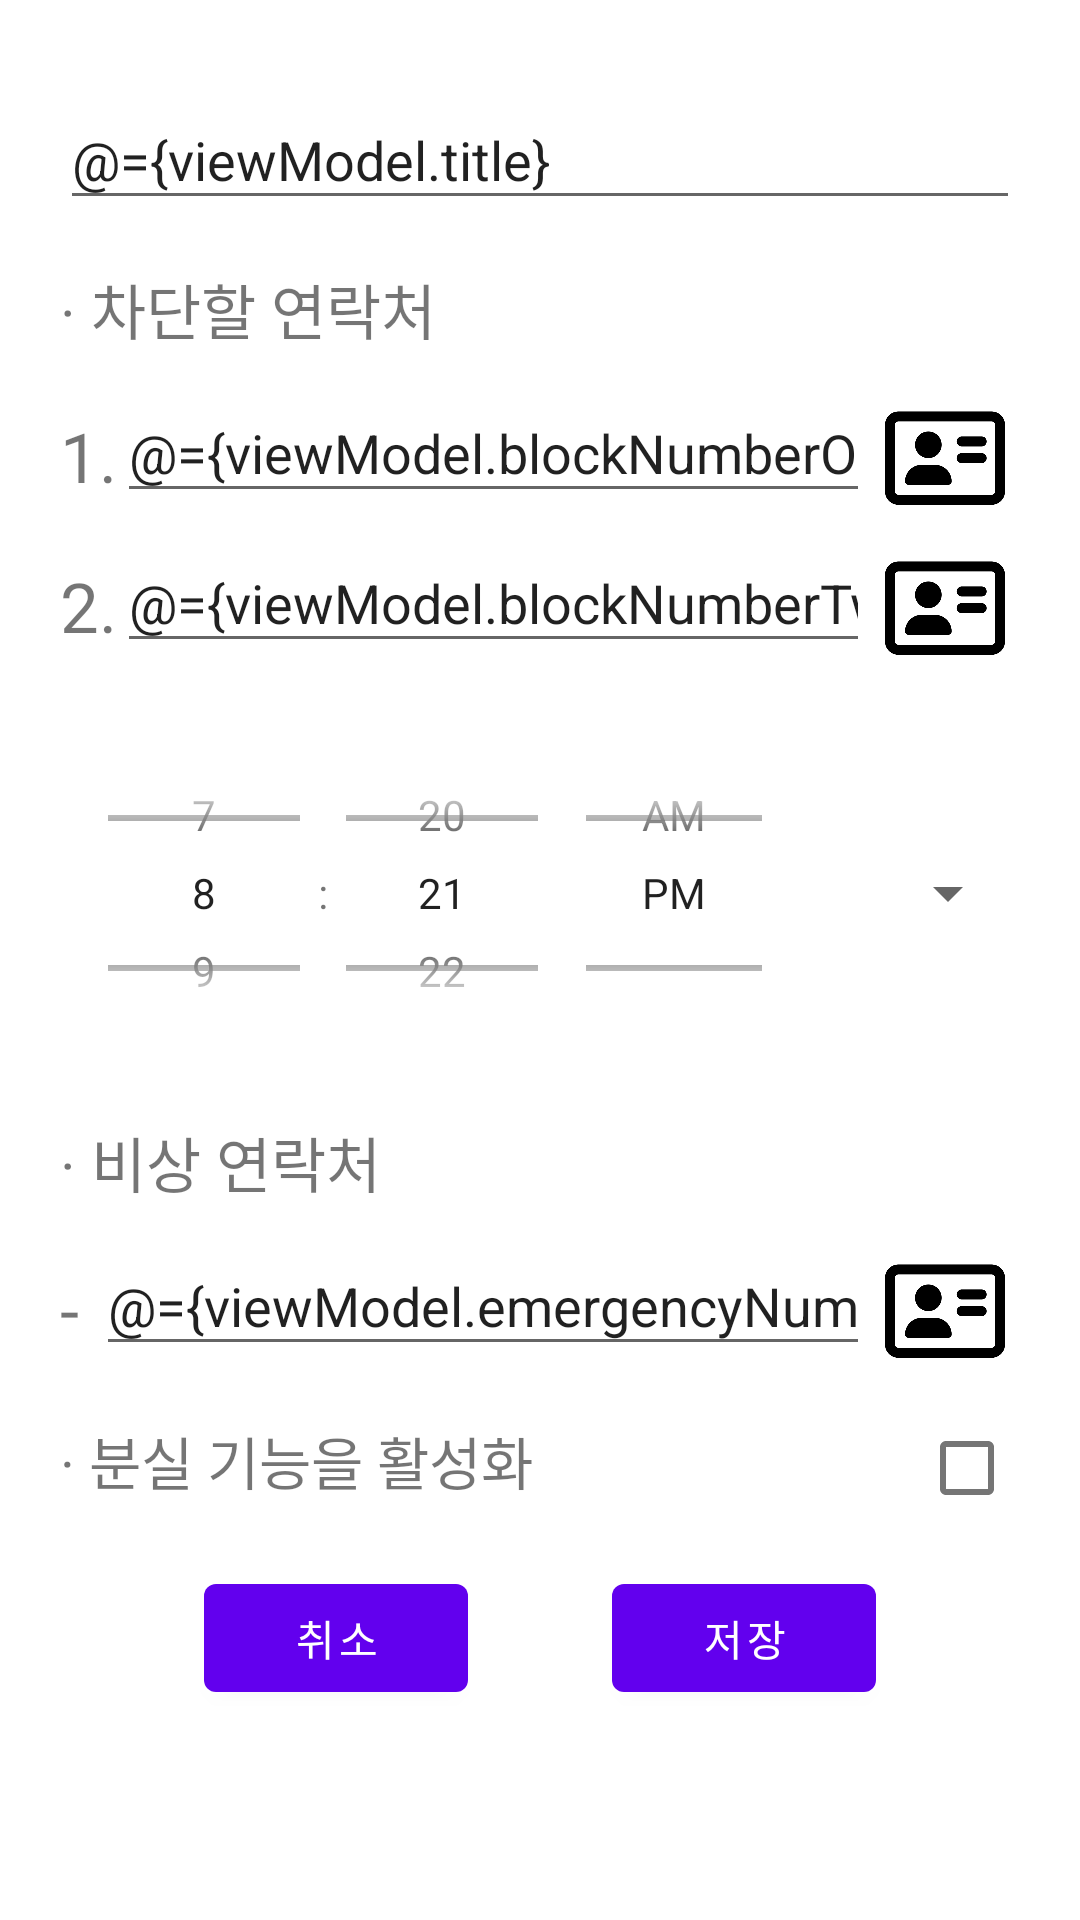

Icons on this 1080×1920 Android screen, each with its box as (x1, y1, x2, y2):
address: (885, 411, 1005, 505), (885, 561, 1005, 655), (885, 1264, 1005, 1358)
